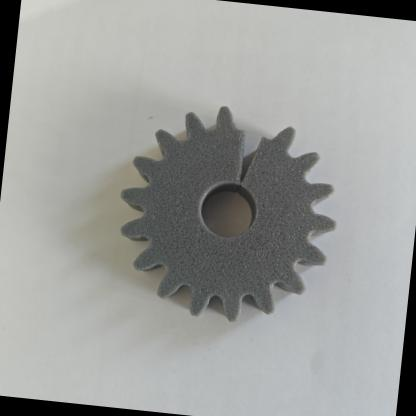defect: (204, 102, 298, 202)
gear: (105, 84, 360, 342)
